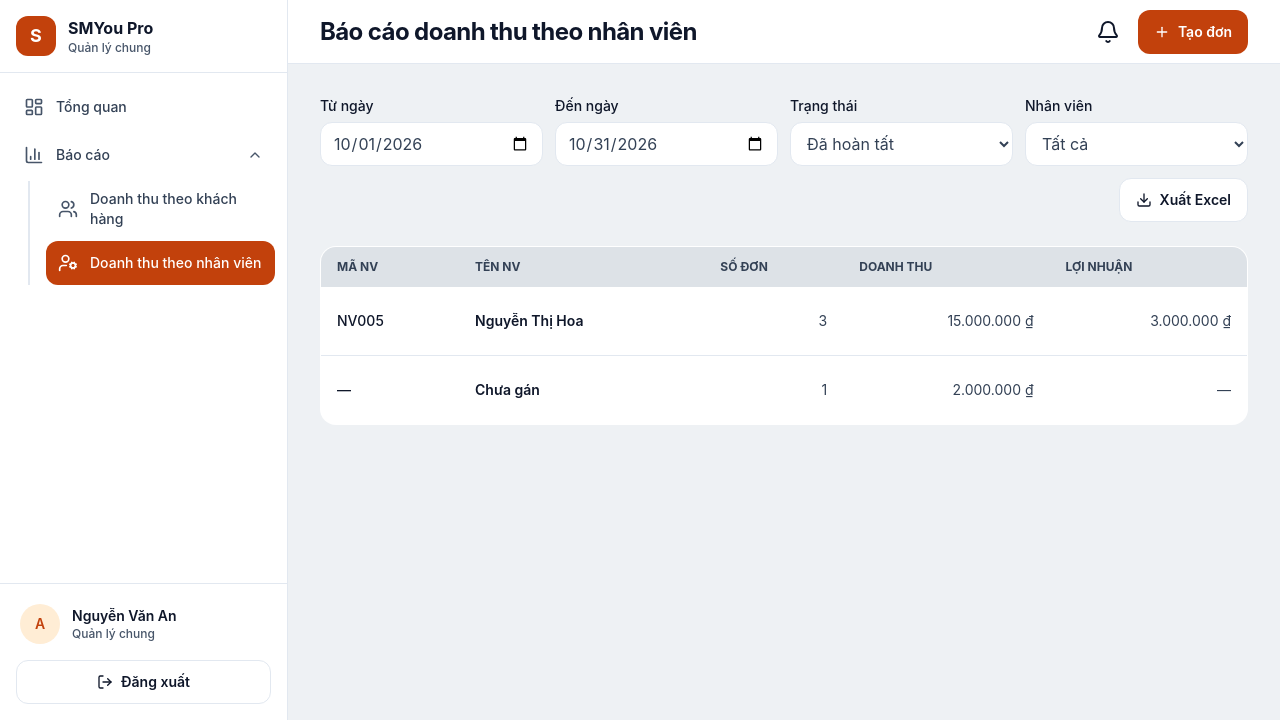
Scenario: Báo cáo doanh thu theo nhân viên › AC-RPT-063 dòng 'Chưa gán' hiện trong bảng, bấm vào gọi /lines?unassigned=true
The image size is (1280, 720).
Expected: the button "Nguyễn Thị Hoa" is shown, [475,299,584,343]
Click the button "Chưa gán".
click(507, 390)  # box [475,368,540,412]
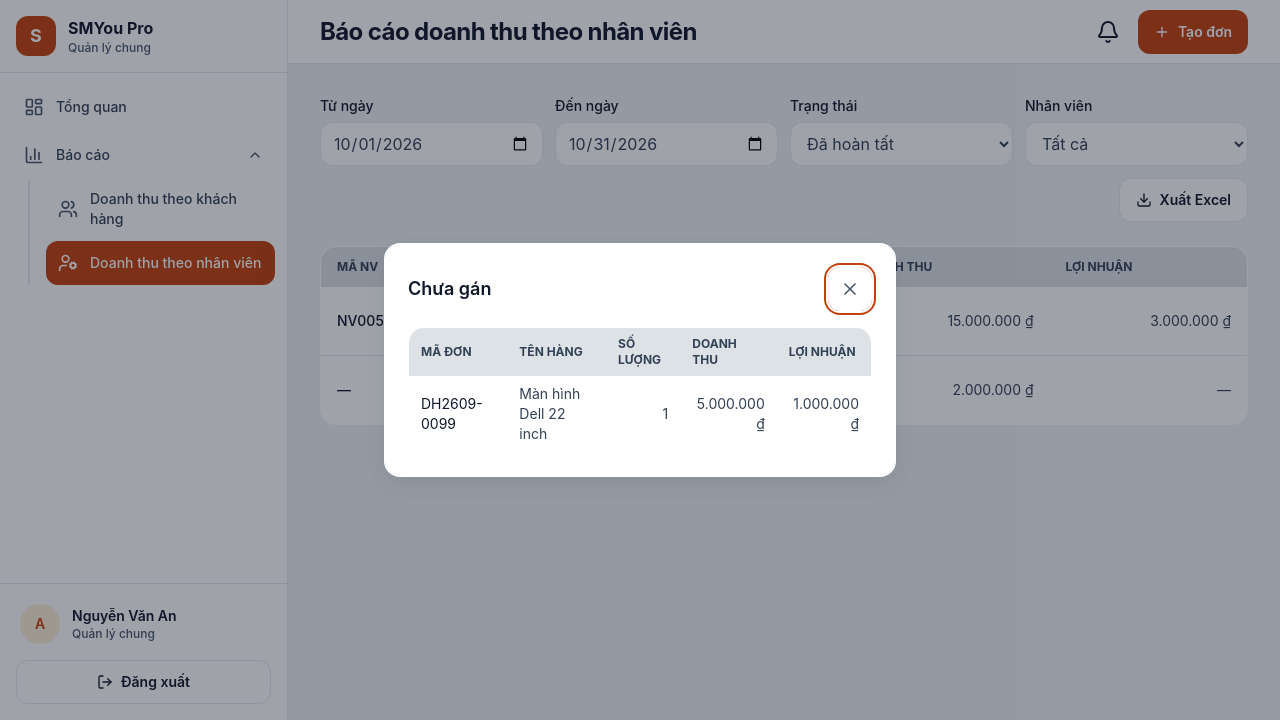
Expected: the dialog "Chưa gán" is shown
Expected: the text "DH2609-0099" is shown, [408,376,507,452]
